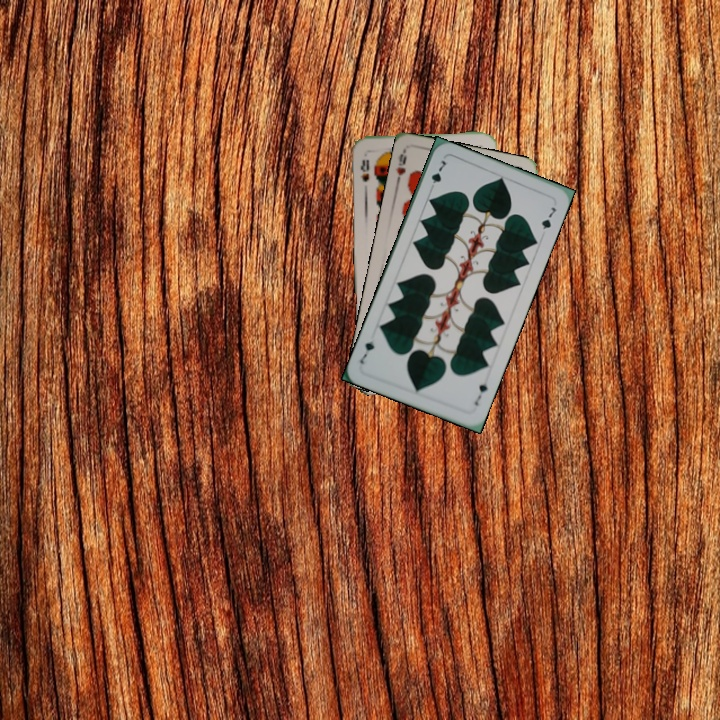G7: (425, 156, 449, 194), (470, 379, 490, 409)
H9: (392, 147, 409, 187)
S8: (356, 155, 372, 184)
